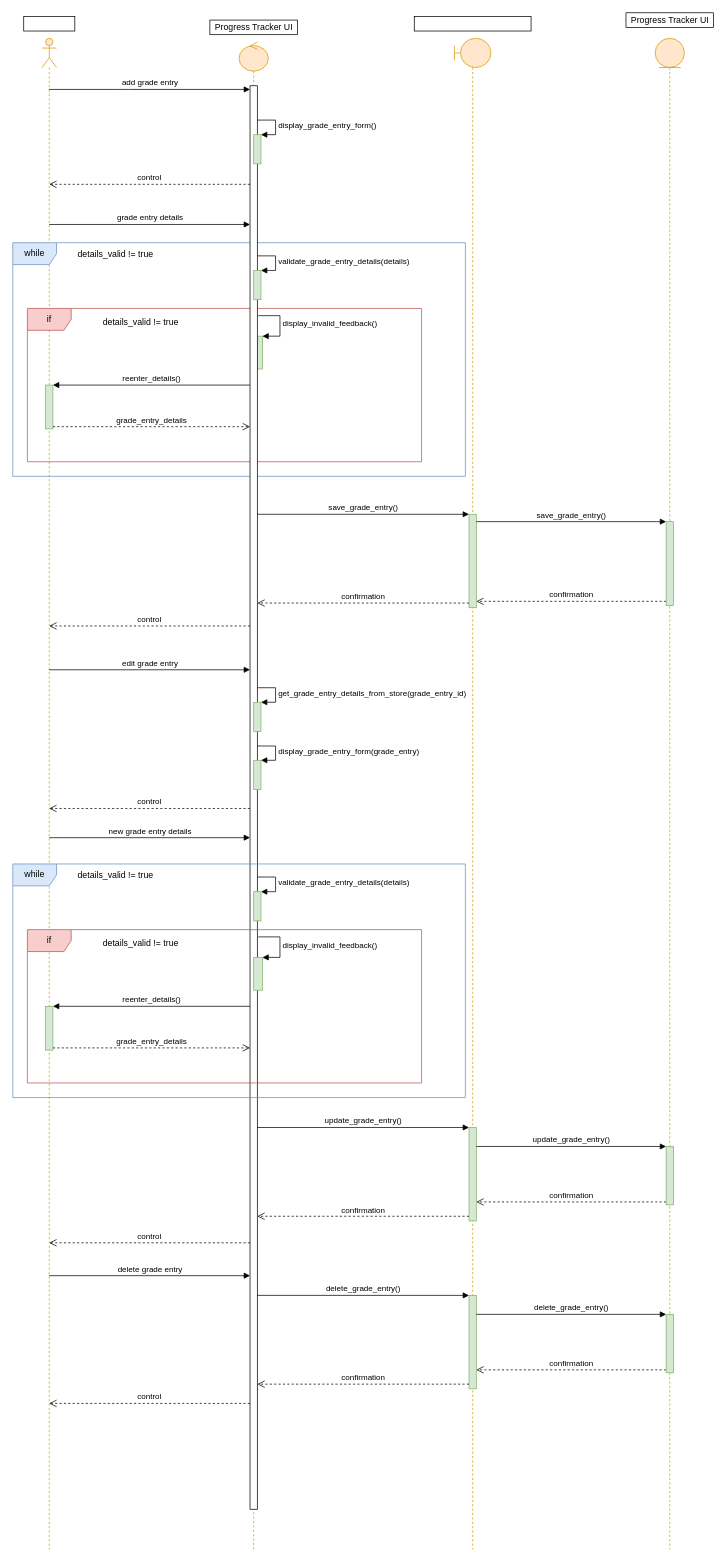
The diagram is 726 pixels wide and 1562 high, and some of its shapes have lost their labels. The centre of each missing label's shape, as x and y in pixels:
Progress Tracker Backend: pixel 472 23
User: User: pixel 49 23
